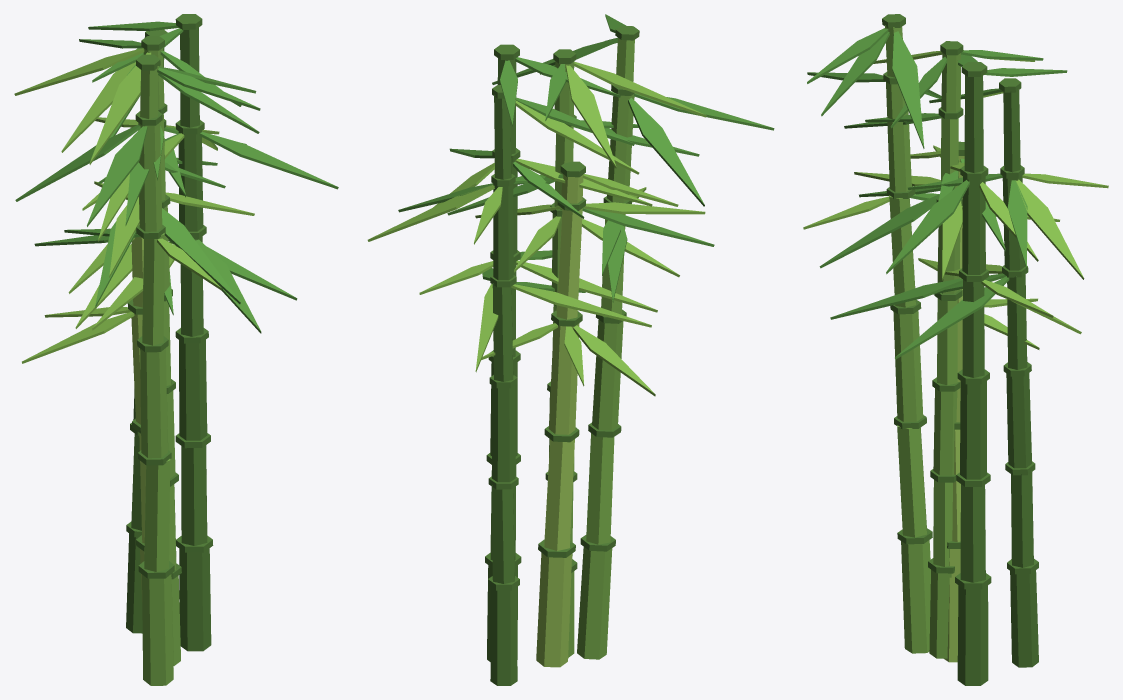
The model's file is Bamboo3.fbx.
The picture shows the model from 3 angles, left to right: view 1: azimuth 30°, elevation 25°; view 2: azimuth 150°, elevation 25°; view 3: azimuth 270°, elevation 25°; orthographic projection. The views are drawn at different scales.
Parts seen in each view (by area): view 1: Bamboo3_bamboo_dk, Bamboo3_bamboo, Bamboo3_leaf, Bamboo3_leaf_lt, Bamboo3_bamboo_lt; view 2: Bamboo3_bamboo_dk, Bamboo3_leaf_lt, Bamboo3_bamboo, Bamboo3_bamboo_lt, Bamboo3_leaf; view 3: Bamboo3_bamboo_dk, Bamboo3_bamboo, Bamboo3_leaf, Bamboo3_leaf_lt, Bamboo3_bamboo_lt.
Boxes of the visible parts, x1=… form: Bamboo3_bamboo_dk: x1=126, y1=14, x2=213, y2=651; Bamboo3_bamboo: x1=138, y1=48, x2=180, y2=685; Bamboo3_leaf: x1=15, y1=21, x2=338, y2=333; Bamboo3_leaf_lt: x1=14, y1=48, x2=254, y2=363; Bamboo3_bamboo_lt: x1=131, y1=195, x2=145, y2=601; Bamboo3_bamboo_dk: x1=485, y1=25, x2=639, y2=685; Bamboo3_leaf_lt: x1=367, y1=61, x2=706, y2=396; Bamboo3_bamboo: x1=549, y1=38, x2=634, y2=659; Bamboo3_bamboo_lt: x1=536, y1=174, x2=583, y2=667; Bamboo3_leaf: x1=398, y1=14, x2=774, y2=302; Bamboo3_bamboo_dk: x1=882, y1=14, x2=1038, y2=685; Bamboo3_bamboo: x1=885, y1=25, x2=960, y2=658; Bamboo3_leaf: x1=807, y1=28, x2=1067, y2=359; Bamboo3_leaf_lt: x1=803, y1=51, x2=1108, y2=349; Bamboo3_bamboo_lt: x1=944, y1=156, x2=964, y2=662.
Bounding box in the file's own units: 6.1 × 12.71 × 5.67.
